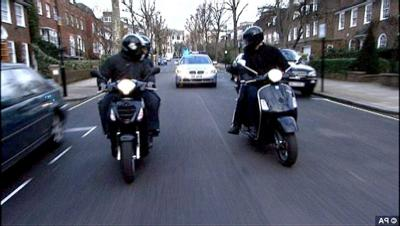With Helmet: (119, 28, 150, 61), (242, 20, 266, 50)
